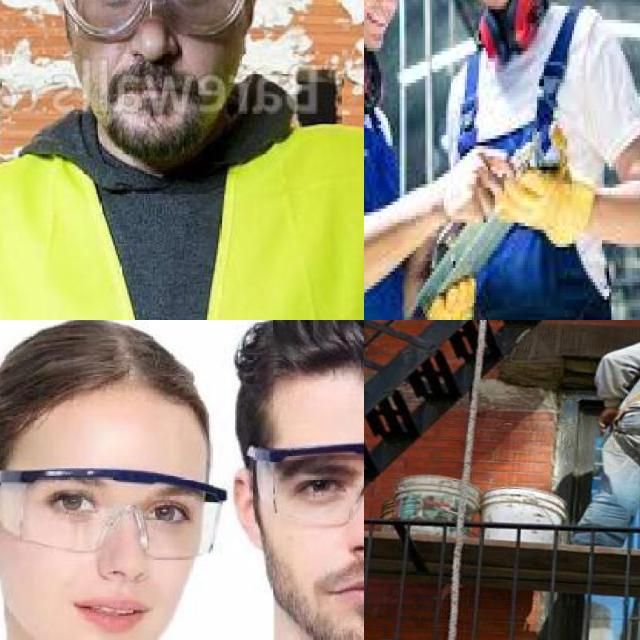Ear-protection: (502, 0, 544, 48), (474, 6, 500, 55)
face_nomask: (23, 474, 211, 640), (271, 450, 364, 624), (93, 0, 222, 107)
glasses: (0, 467, 226, 561), (248, 439, 364, 526), (68, 0, 250, 40)
head_nohelmet: (0, 320, 214, 436), (242, 320, 364, 415)
person: (0, 0, 364, 320), (430, 0, 640, 320)
vest: (0, 119, 364, 320)
